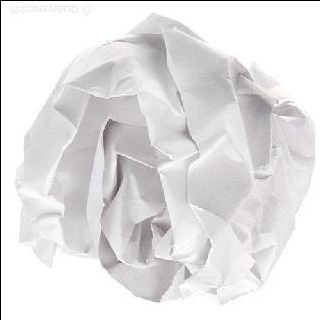8/可回收垃圾/纸: (14, 11, 316, 304)
